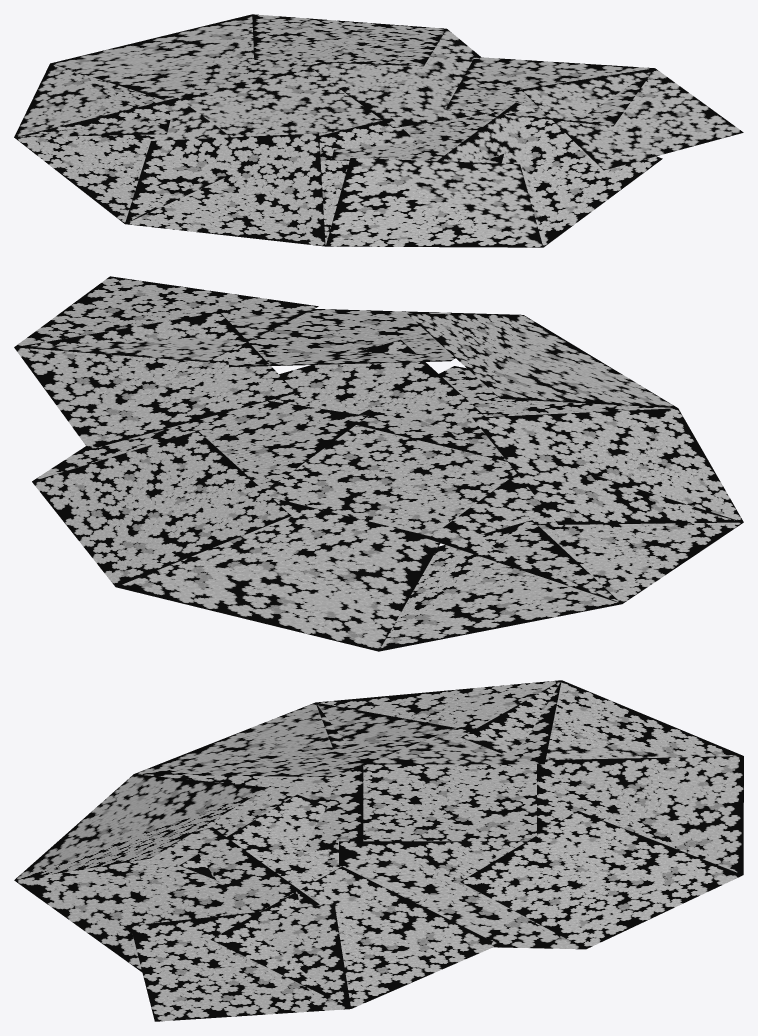
File: CloverClump_v01.fbx
3 renders of one model, top to bottom at view 1: azimuth 30°, elevation 25°; view 2: azimuth 150°, elevation 25°; view 3: azimuth 270°, elevation 25°, orthographic. The views are drawn at different scales.
Parts seen in each view (by area): view 1: Plane; view 2: Plane; view 3: Plane.
Part boxes in pixels (box(x1,y1,x2,y2)): Plane: box(14, 14, 743, 247); Plane: box(14, 276, 743, 651); Plane: box(14, 680, 743, 1021).
Bounding box in the file's own units: 762 × 52.14 × 710.
